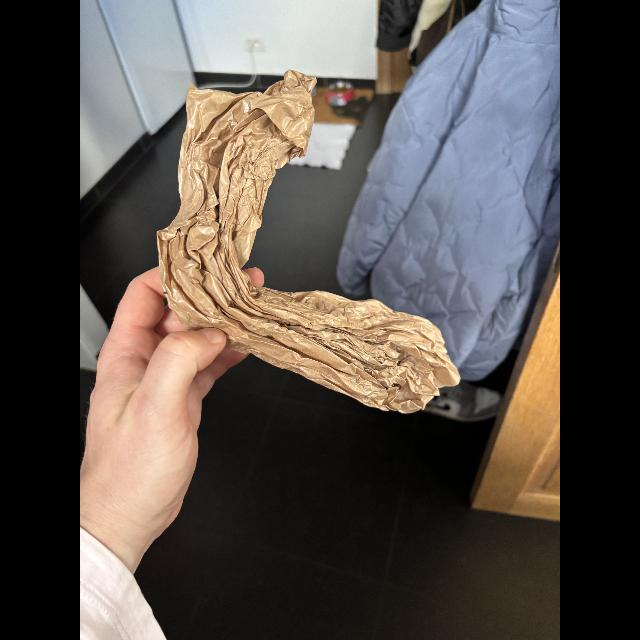Paper: (154, 67, 460, 416)
